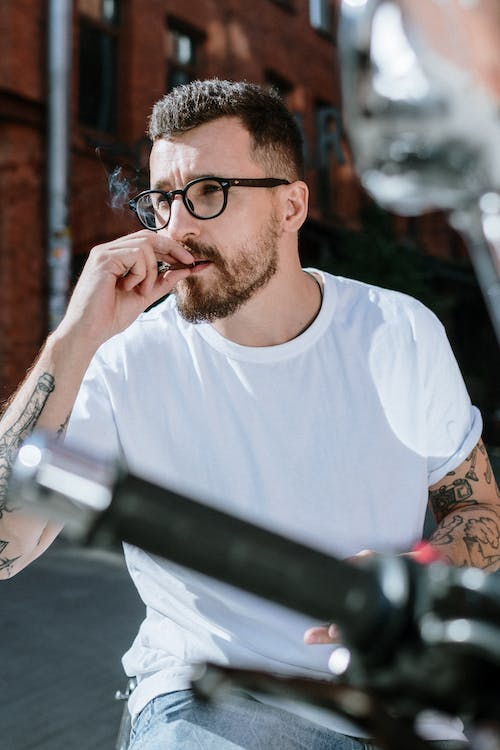cigarette: (153, 257, 200, 277)
